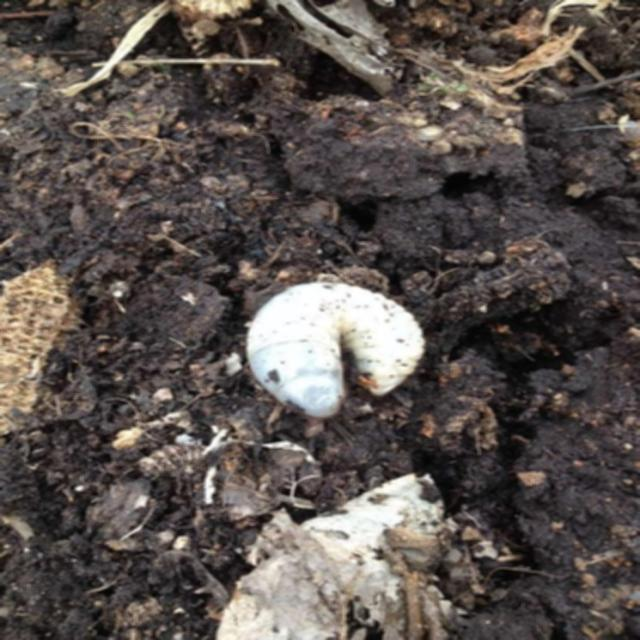grub: (243, 283, 439, 415)
